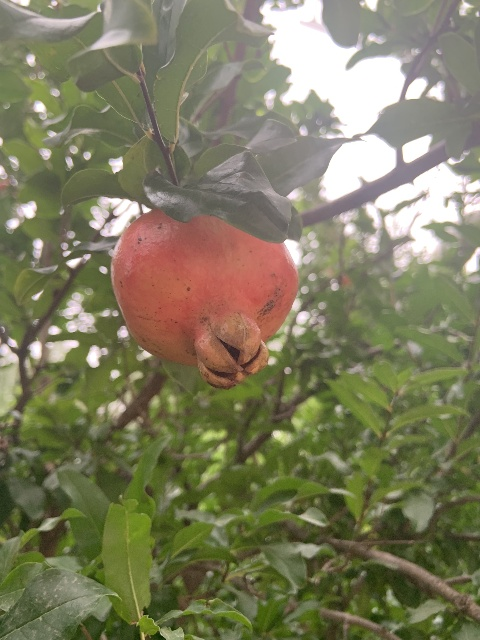ripe: (110, 208, 299, 388)
